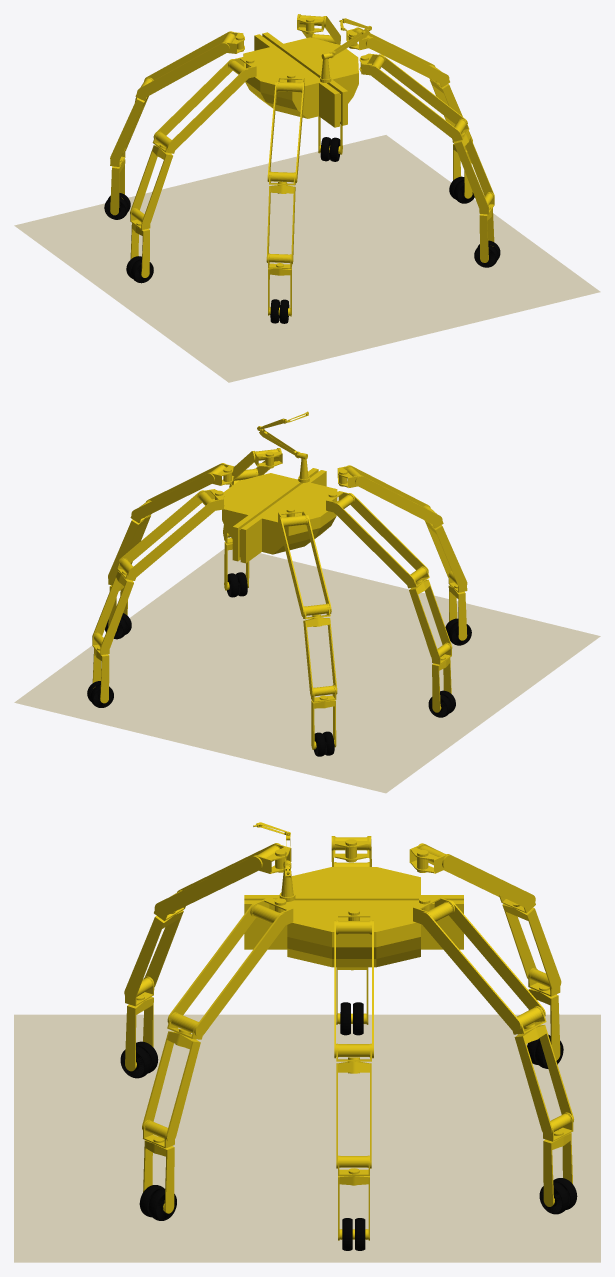
File: lunar_rover.glb
3 renders of one model, top to bottom at view 1: azimuth 30°, elevation 25°; view 2: azimuth 150°, elevation 25°; view 3: azimuth 270°, elevation 25°, orthographic. The views are drawn at different scales.
Visible parts, largest first — view 1: Grid, AthleteBody, AthleteTopLeg, AthleteTopLeg.004, AthleteTopLeg.003, AthleteMiddleLeg.004, AthleteMiddleLeg, AthleteTopLeg.001, AthleteTopLeg.005, AthleteMiddleLeg.005, AthleteMiddleLeg.003, AthleteBottomLeg.004 (+5 smaller); view 2: Grid, AthleteBody, AthleteTopLeg.002, AthleteTopLeg.004, AthleteTopLeg.005, AthleteMiddleLeg.004, AthleteMiddleLeg.002, AthleteTopLeg.003, AthleteTopLeg.001, AthleteMiddleLeg.003, AthleteMiddleLeg.005, AthleteBottomLeg.004 (+5 smaller); view 3: Grid, AthleteBody, AthleteTopLeg.002, AthleteTopLeg, AthleteMiddleLeg.002, AthleteMiddleLeg, AthleteMiddleLeg.005, AthleteMiddleLeg.003, AthleteTopLeg.005, AthleteTopLeg.003, AthleteBottomLeg.002, AthleteBottomLeg (+9 smaller).
Boxes of the visible parts, x1,y1,x2,y2 form: Grid: (14,135,600,382); AthleteBody: (243,32,358,127); AthleteTopLeg: (368,54,467,139); AthleteTopLeg.004: (153,59,251,151); AthleteTopLeg.003: (137,31,235,98); AthleteMiddleLeg.004: (130,131,174,225); AthleteMiddleLeg: (452,118,494,210); AthleteTopLeg.001: (355,27,449,84); AthleteTopLeg.005: (267,81,304,182); AthleteMiddleLeg.005: (266,171,295,263); AthleteMiddleLeg.003: (110,77,153,163); AthleteBottomLeg.004: (130,208,150,277); Grid: (14,549,600,793); AthleteBody: (222,468,337,563); AthleteTopLeg.002: (118,490,217,578); AthleteTopLeg.004: (331,493,428,586); AthleteTopLeg.005: (346,465,442,525); AthleteMiddleLeg.004: (407,566,452,660); AthleteMiddleLeg.002: (92,558,135,651); AthleteTopLeg.003: (278,514,331,616); AthleteTopLeg.001: (131,463,225,520); AthleteMiddleLeg.003: (303,603,337,697); AthleteMiddleLeg.005: (423,505,467,588); AthleteBottomLeg.004: (431,642,451,712); Grid: (14,1014,600,1262); AthleteBody: (244,867,463,967); AthleteTopLeg.002: (419,899,545,1031); AthleteTopLeg: (167,902,287,1037); AthleteMiddleLeg.002: (512,1006,573,1135); AthleteMiddleLeg: (142,1012,202,1142); AthleteMiddleLeg.005: (124,890,185,1000); AthleteMiddleLeg.003: (499,895,561,990); AthleteTopLeg.005: (154,843,280,916); AthleteTopLeg.003: (418,843,535,908); AthleteBottomLeg.002: (543,1112,573,1206); AthleteBottomLeg: (143,1119,174,1213).
Bounding box in the file's own units: 20.21 × 12.44 × 20.21.
